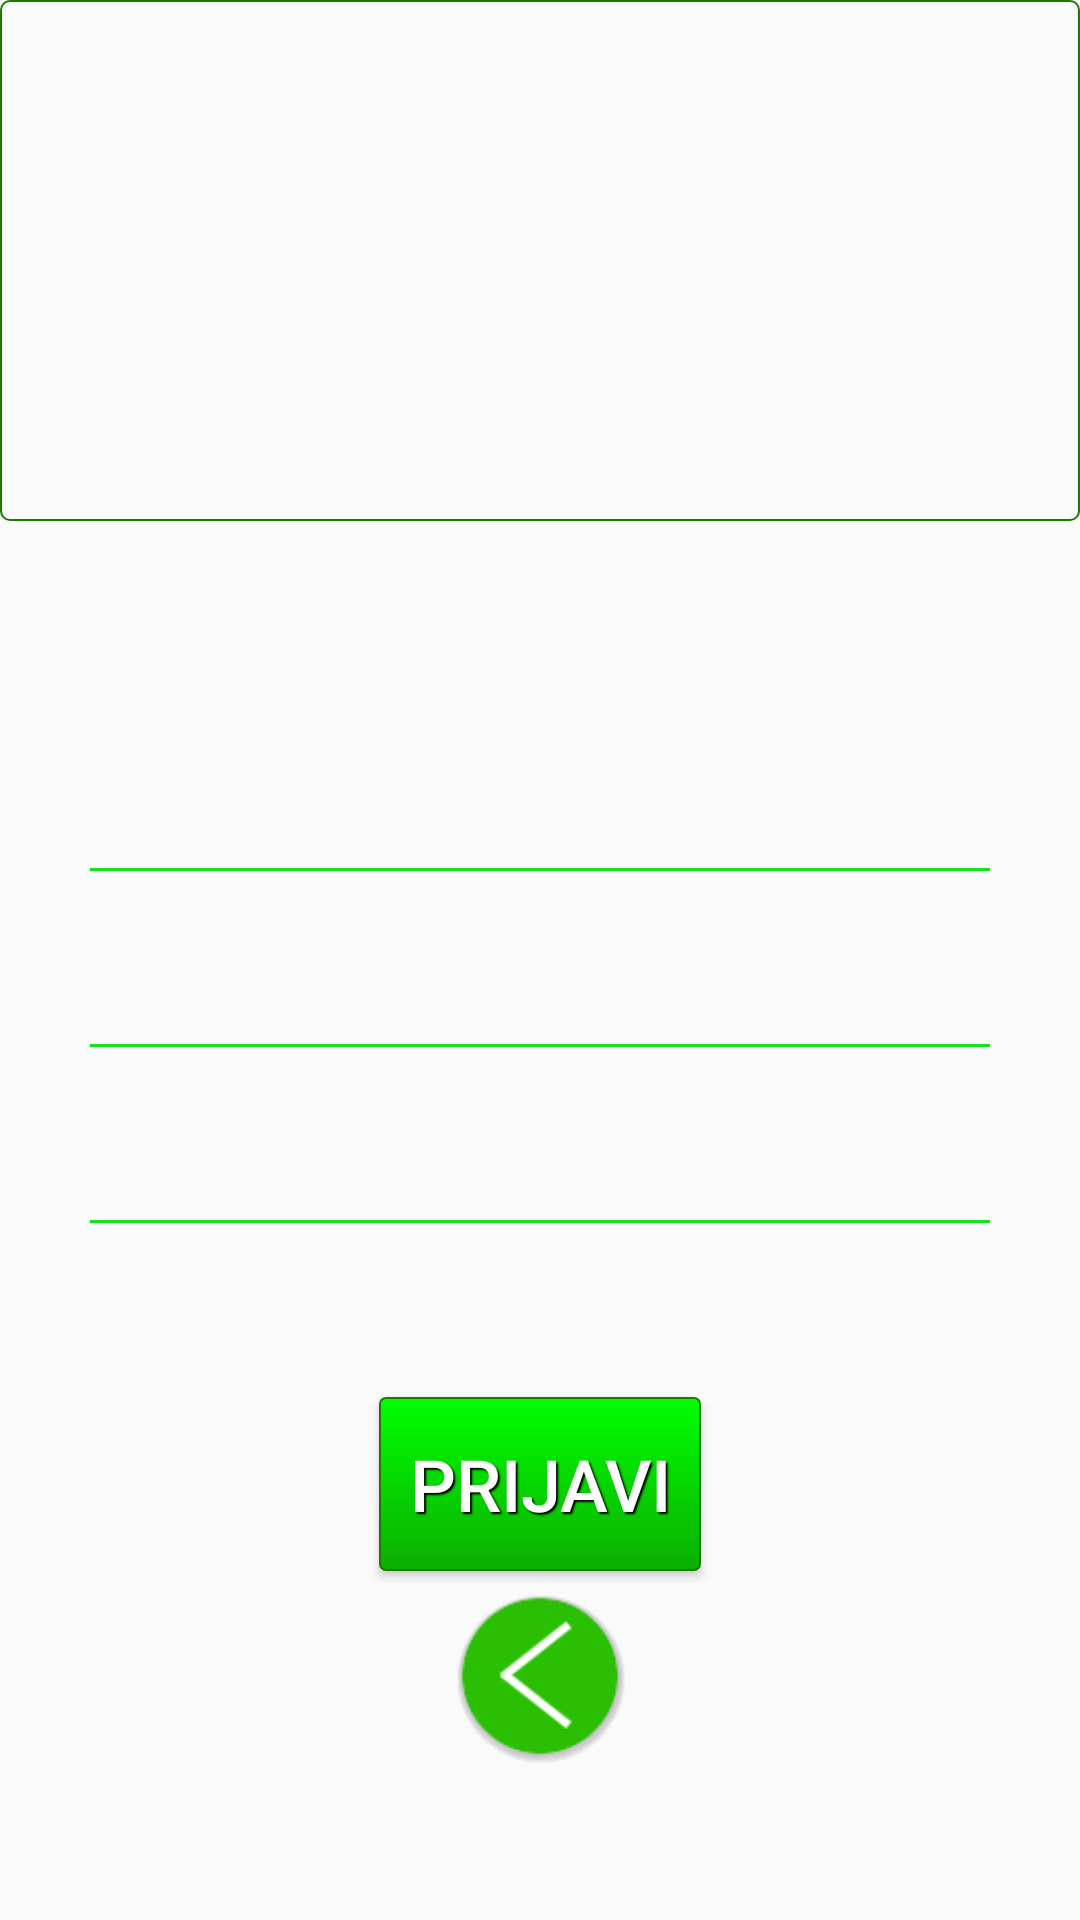

Named icons in this screenshot (1080×1920) and their bounding boxes, (x1, y1, x2, y2):
arrow left: (459, 1596, 623, 1761)
